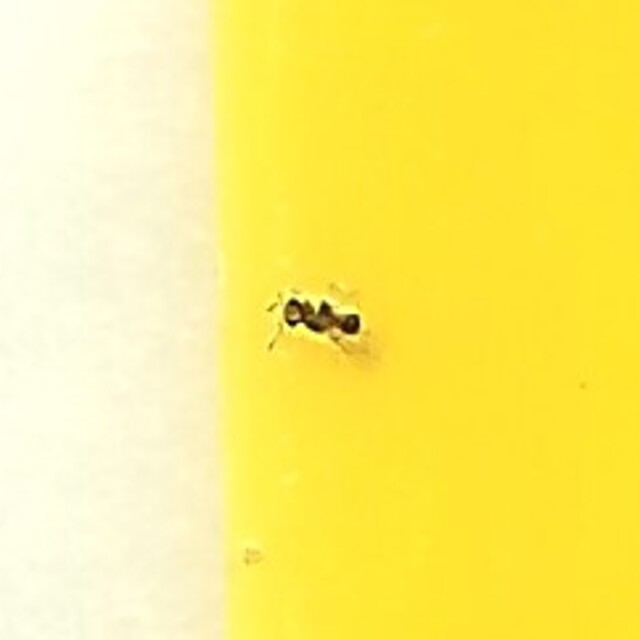Hymenoptera: (264, 286, 376, 354)
